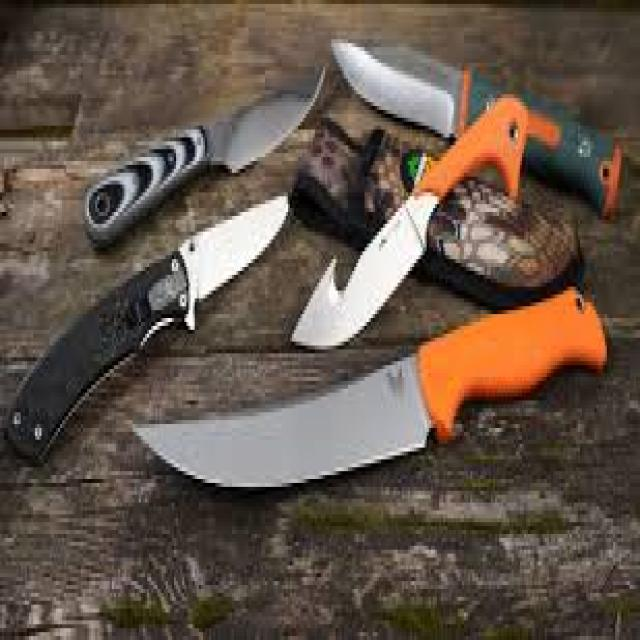knife: (130, 288, 607, 488), (8, 194, 289, 462), (333, 38, 623, 216), (84, 67, 327, 244)
